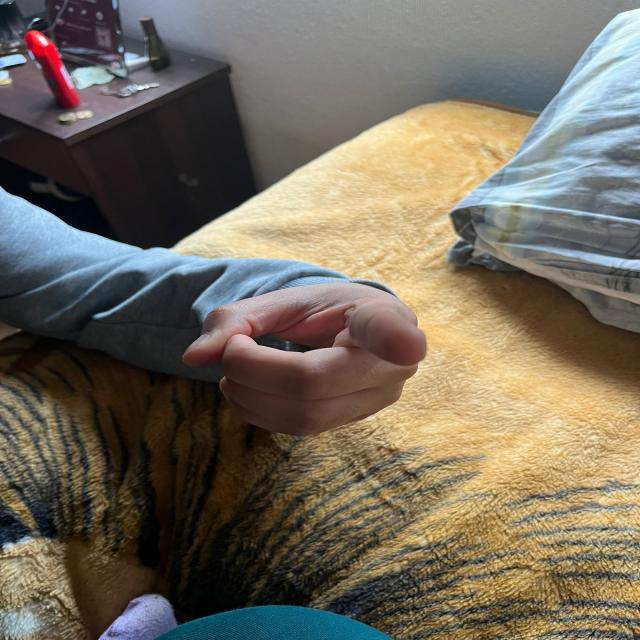X: (176, 279, 437, 445)
